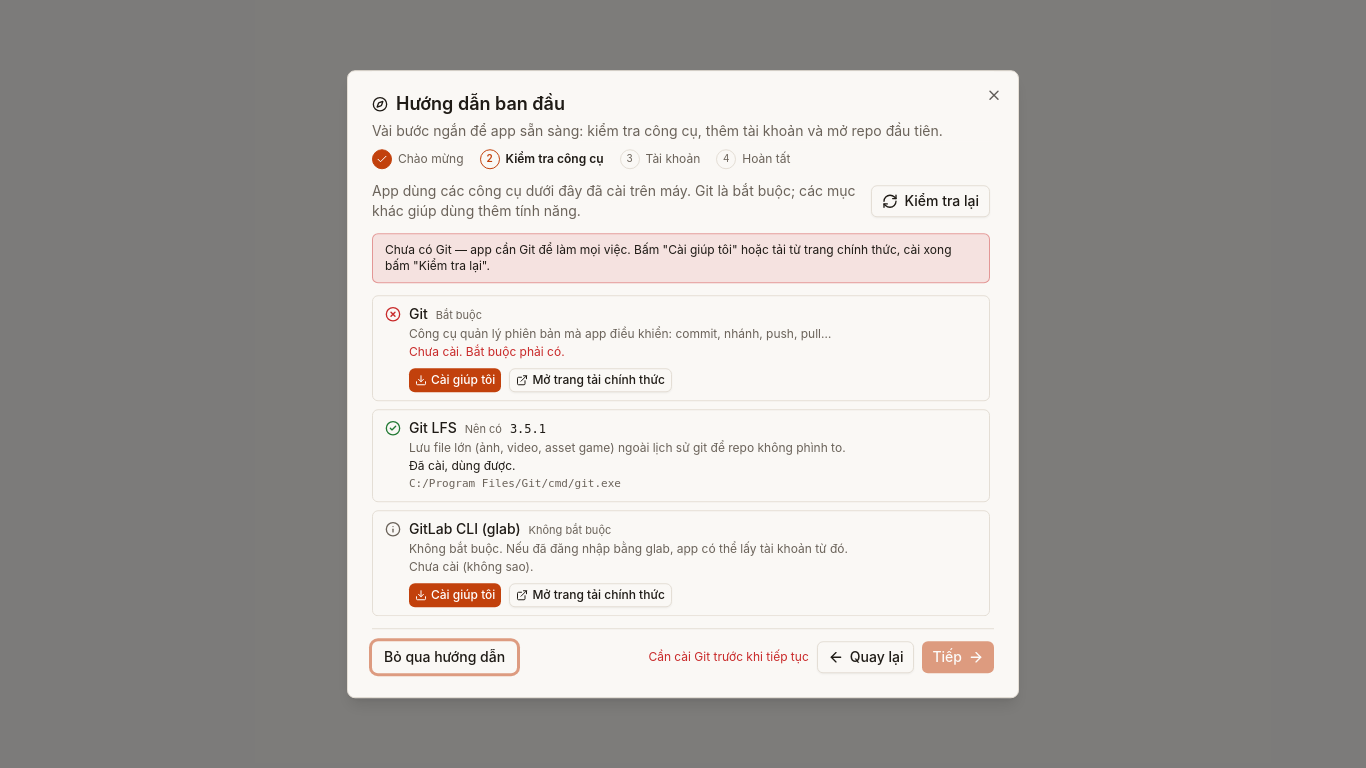
Scenario: first-run setup › installs a tool through the whitelist command and explains a refused UAC prompt
Click the button "Cài giúp tôi" below "Chưa cài. Bắt buộc phải có." at (455, 380), box [409,368,501,392]
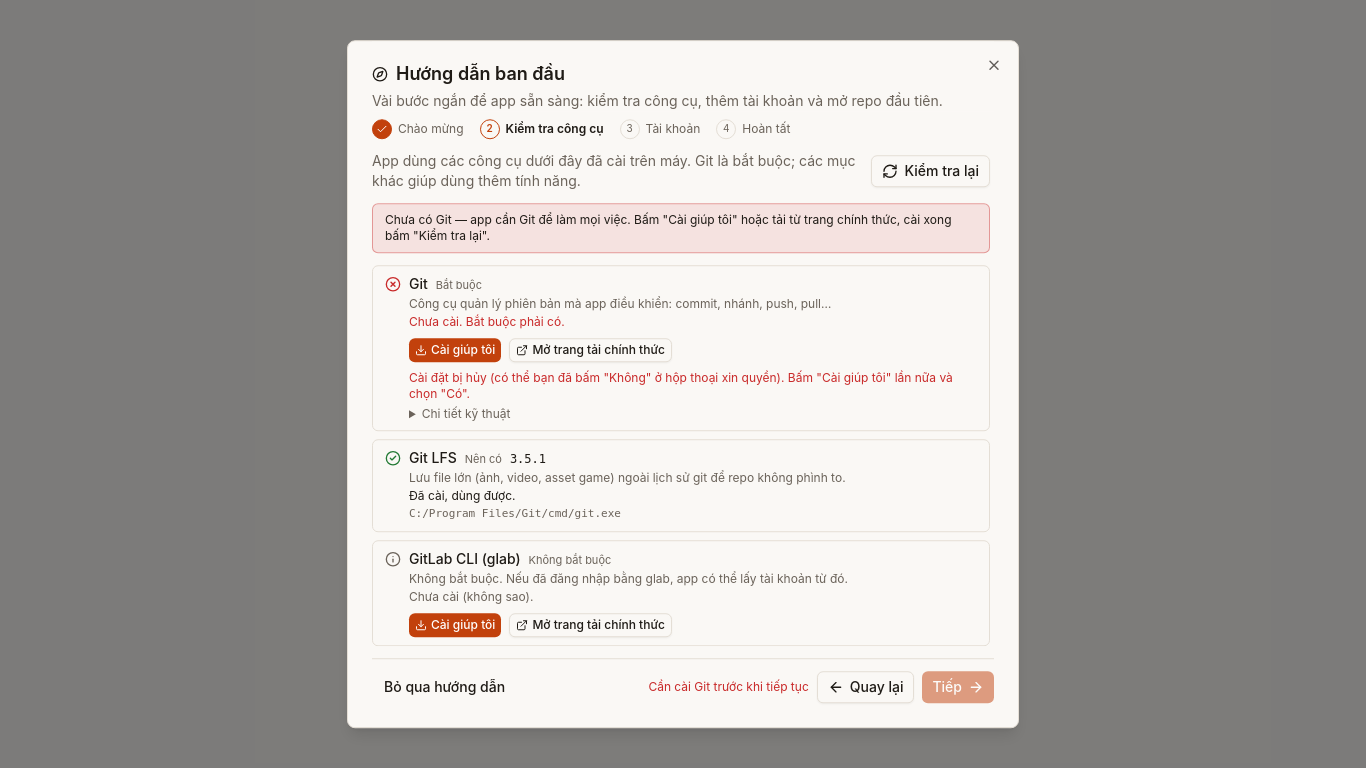
Expected: the text "Cài đặt bị hủy" is shown, [409,370,953,401]
Expected: the heading "Chi tiết kỹ thuật" is shown, [422,406,510,421]
